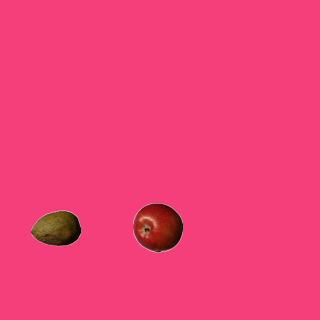Apple Braeburn: (132, 202, 182, 252)
Papaya: (30, 203, 80, 253)
